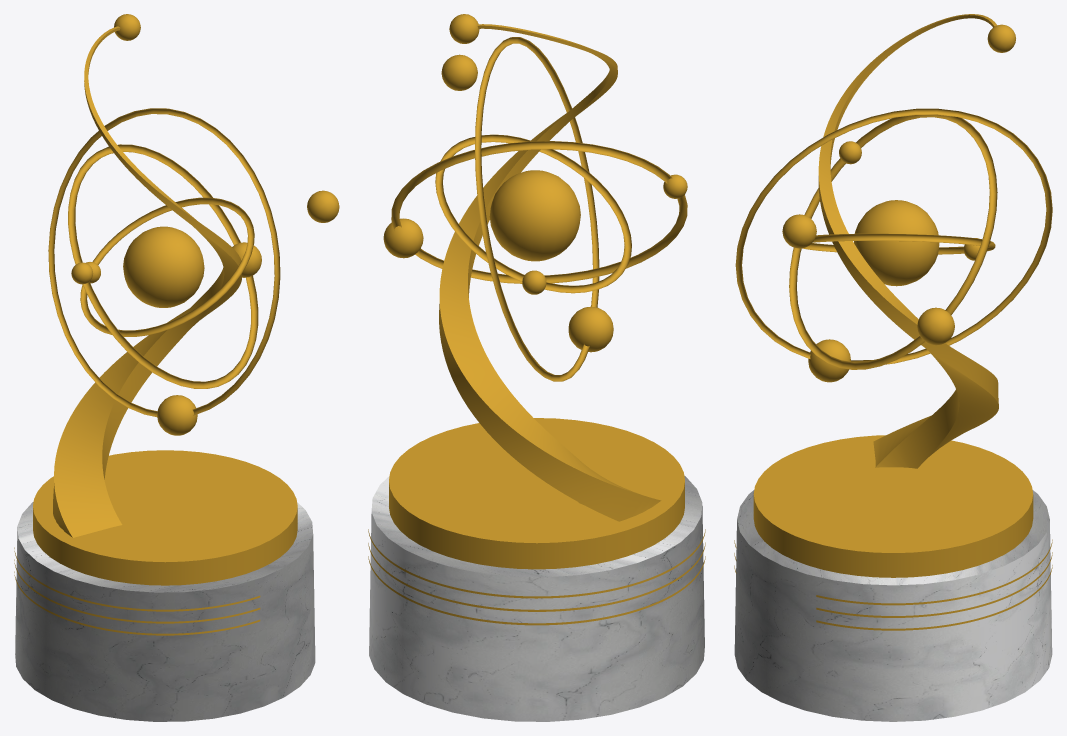
The model's file is physics.glb.
3 renders of one model, left to right at view 1: azimuth 30°, elevation 25°; view 2: azimuth 150°, elevation 25°; view 3: azimuth 270°, elevation 25°, orthographic. The views are drawn at different scales.
Parts seen in each view (by area): view 1: marble_column, gold_cap, curved_pole, nucleus, orbit_b, orbit_c, orbit_a, electron_5, electron_3, gold_band_1, gold_band_2, gold_band_3 (+2 smaller); view 2: marble_column, gold_cap, curved_pole, nucleus, orbit_c, orbit_b, orbit_a, electron_5, electron_4, electron_3, gold_band_3, gold_band_2 (+2 smaller); view 3: marble_column, gold_cap, curved_pole, orbit_b, nucleus, orbit_c, orbit_a, electron_5, electron_4, electron_3, tip_ball, gold_band_1 (+2 smaller).
Boxes of the visible parts, x1,y1,x2,y2 form: marble_column: [15, 502, 315, 721]; gold_cap: [33, 450, 297, 585]; curved_pole: [53, 26, 241, 537]; nucleus: [123, 226, 204, 307]; orbit_b: [48, 108, 280, 416]; orbit_c: [68, 144, 258, 388]; orbit_a: [80, 197, 254, 336]; electron_5: [157, 395, 197, 435]; electron_3: [307, 190, 339, 222]; gold_band_1: [14, 571, 260, 635]; gold_band_2: [14, 559, 260, 623]; gold_band_3: [14, 547, 260, 611]; marble_column: [369, 475, 704, 721]; gold_cap: [389, 418, 684, 569]; curved_pole: [439, 24, 661, 521]; nucleus: [489, 170, 580, 261]; orbit_c: [391, 141, 687, 283]; orbit_b: [475, 37, 599, 381]; orbit_a: [435, 134, 631, 293]; electron_5: [568, 306, 613, 352]; electron_4: [383, 218, 423, 258]; electron_3: [441, 54, 477, 90]; gold_band_3: [368, 529, 705, 598]; gold_band_2: [368, 542, 705, 611]; marble_column: [734, 490, 1052, 721]; gold_cap: [753, 435, 1033, 577]; curved_pole: [818, 14, 998, 468]; orbit_b: [735, 108, 1052, 364]; nucleus: [854, 200, 939, 286]; orbit_c: [789, 115, 997, 369]; orbit_a: [802, 233, 995, 254]; electron_5: [808, 339, 850, 382]; electron_4: [917, 307, 954, 345]; electron_3: [782, 214, 816, 248]; tip_ball: [987, 24, 1015, 52]; gold_band_1: [734, 565, 1052, 630].
Size of what is drawn, in the model's own units: 0.4543 by 1 by 0.4544.
3 materials, 1 textured.
